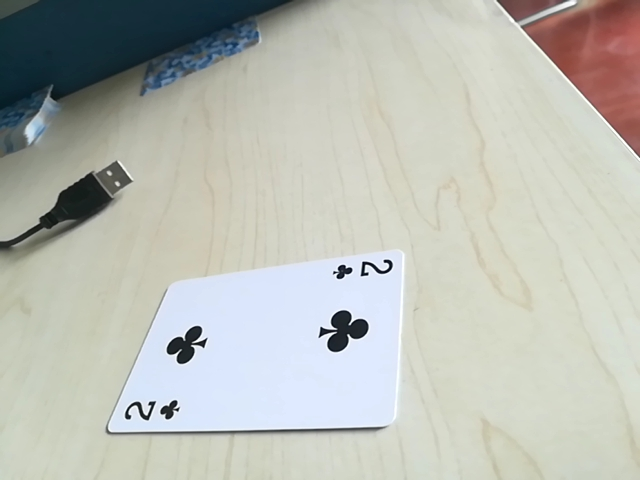mh 2: (115, 397, 186, 430), (329, 253, 399, 286)
